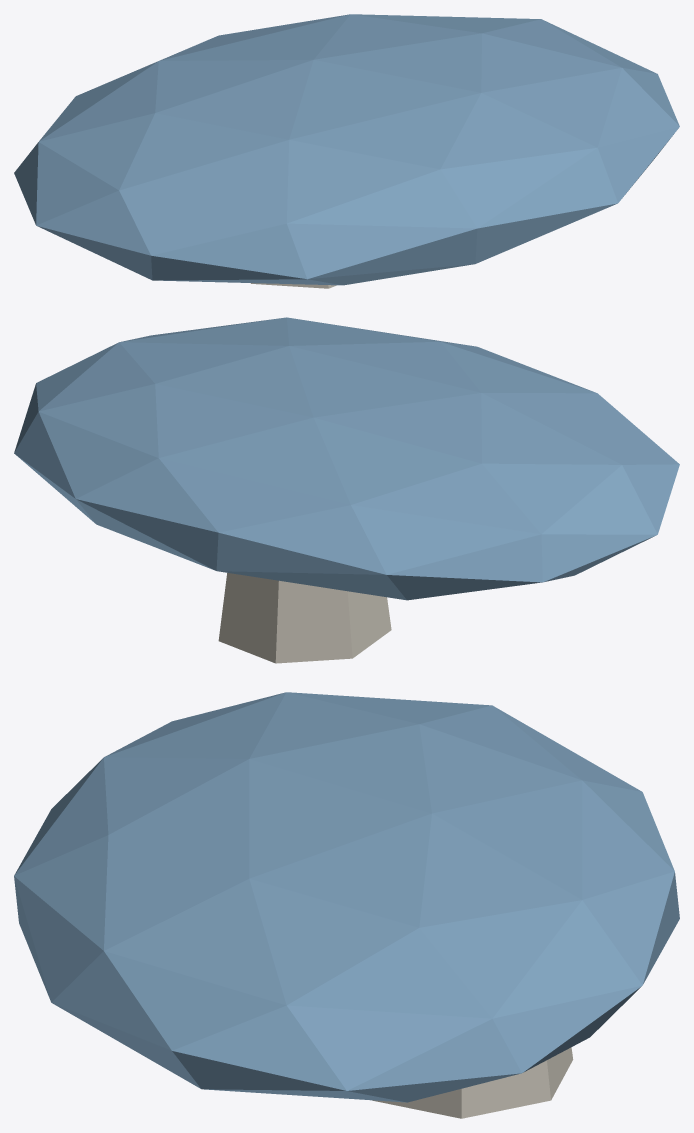
File: fuscoporia-torulosa.glb
The picture shows the model from 3 angles, top to bottom: view 1: azimuth 30°, elevation 25°; view 2: azimuth 150°, elevation 25°; view 3: azimuth 270°, elevation 25°; orthographic projection. The views are drawn at different scales.
Parts seen in each view (by area): view 1: shelf; view 2: shelf, stalk; view 3: shelf, stalk.
Boxes of the visible parts, x1,y1,x2,y2 form: shelf: (14, 14, 679, 285); shelf: (14, 317, 679, 600); stalk: (218, 573, 391, 663); shelf: (14, 692, 679, 1102); stalk: (372, 1047, 573, 1118).
Size of the model in its own units: 0.48 by 0.1484 by 0.3488.
